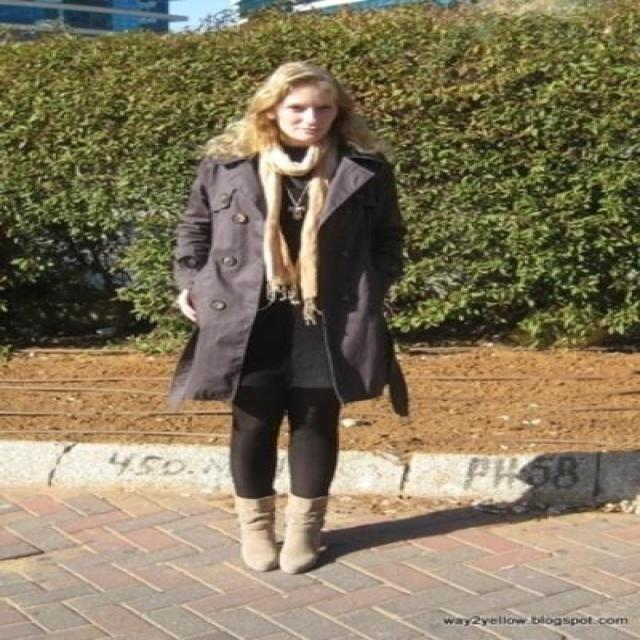jacket: (157, 154, 430, 416)
pants: (218, 387, 339, 497)
shirt: (224, 123, 374, 415)
shoe: (237, 488, 333, 574)
